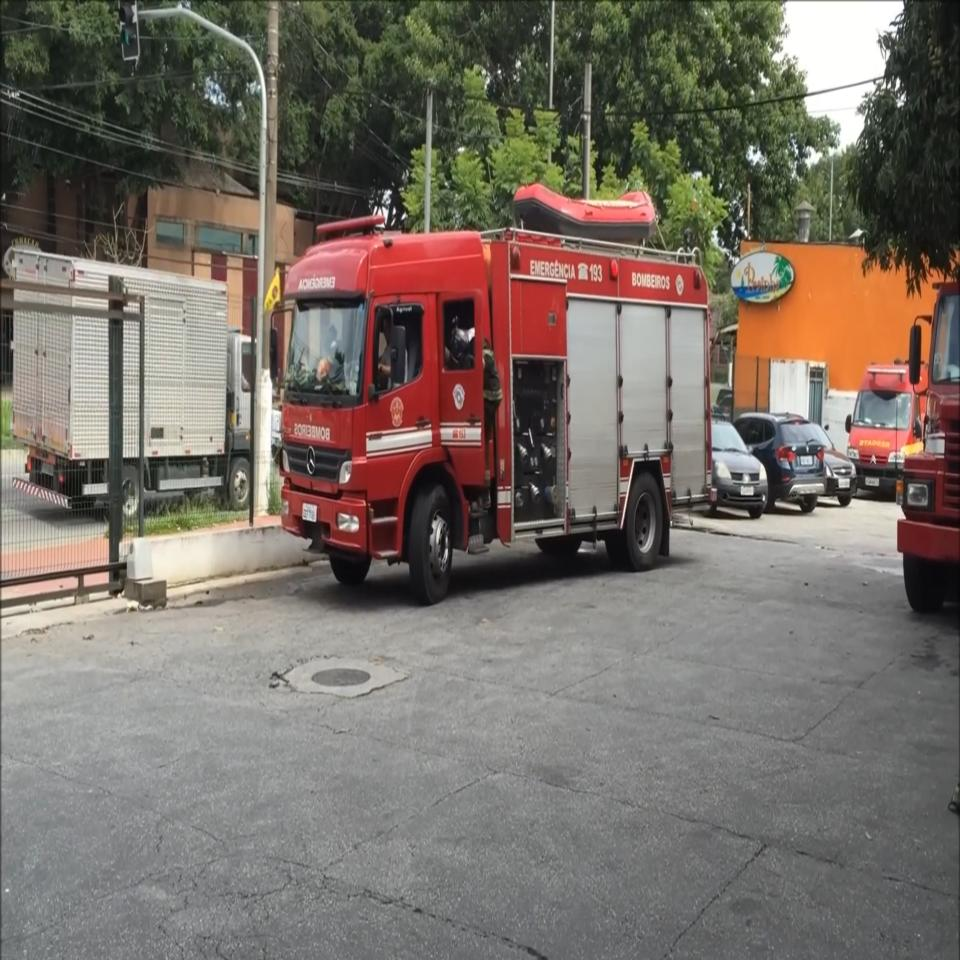viatura: (268, 184, 722, 608)
